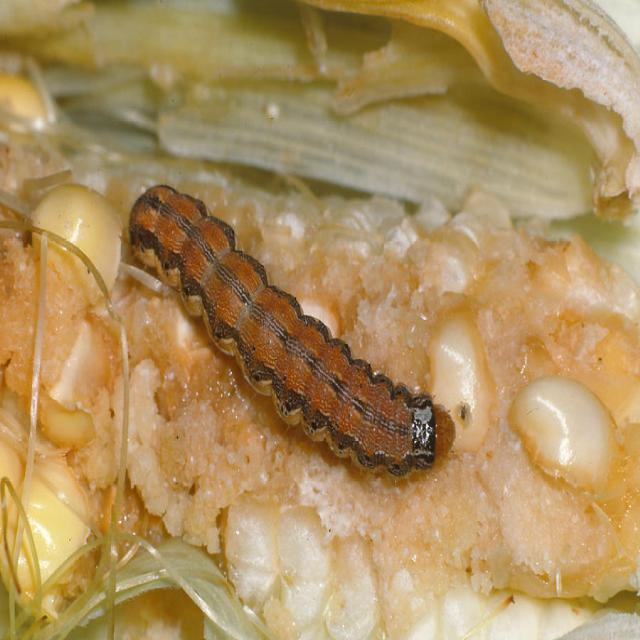Corn-earworm: (128, 174, 453, 501)
